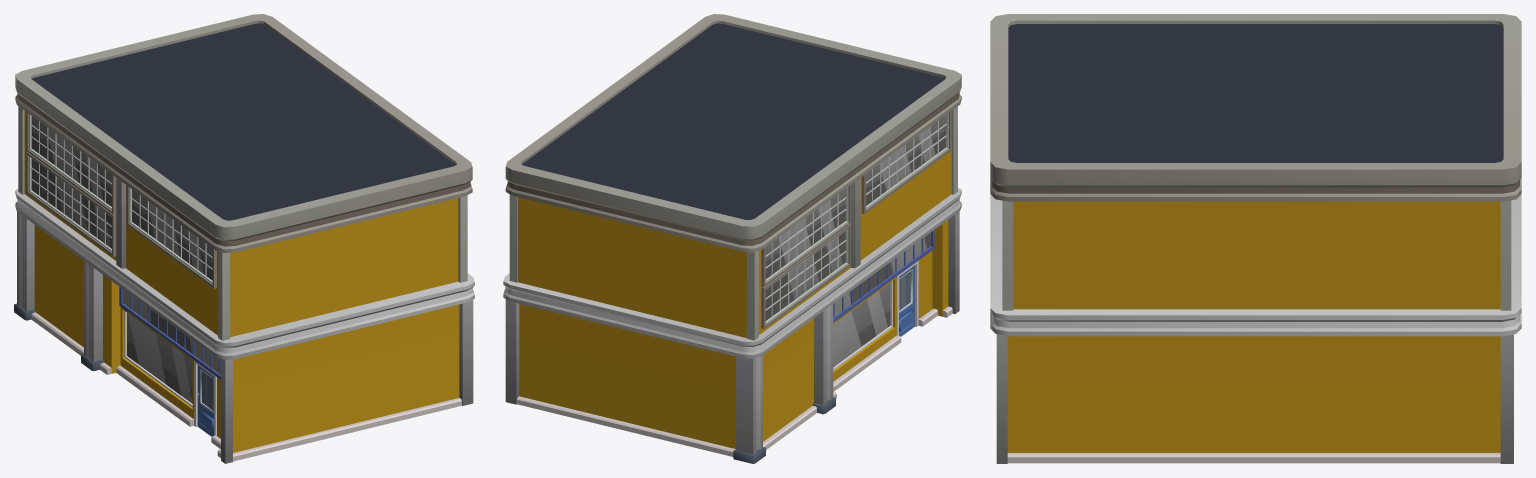
The model's file is Building_11_3_G.fbx.
3 renders of one model, left to right at view 1: azimuth 30°, elevation 25°; view 2: azimuth 150°, elevation 25°; view 3: azimuth 270°, elevation 25°, orthographic. The views are drawn at different scales.
Visible parts, largest first — view 1: Building_11_3_G; view 2: Building_11_3_G; view 3: Building_11_3_G.
Part boxes in pixels (x1,y1,x2,y2): Building_11_3_G: (14, 14, 474, 463); Building_11_3_G: (503, 14, 961, 463); Building_11_3_G: (990, 14, 1521, 463).
Bounding box in the file's own units: 814 × 715 × 1163.
